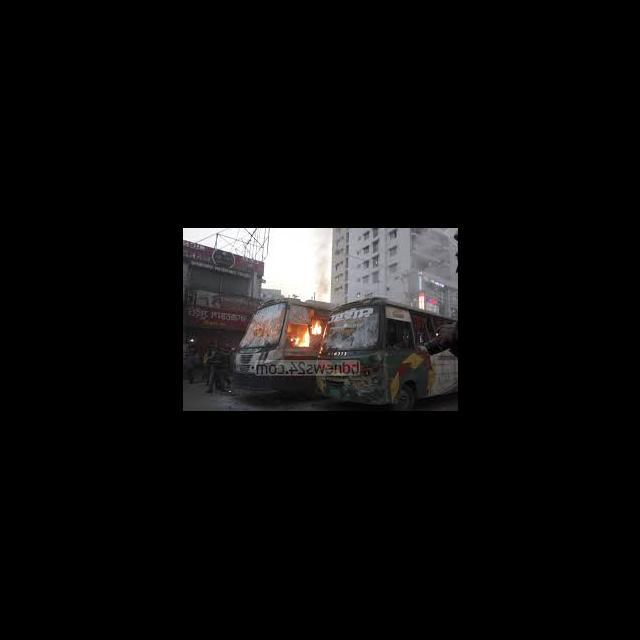Fire: (290, 326, 308, 348), (310, 318, 324, 335)
